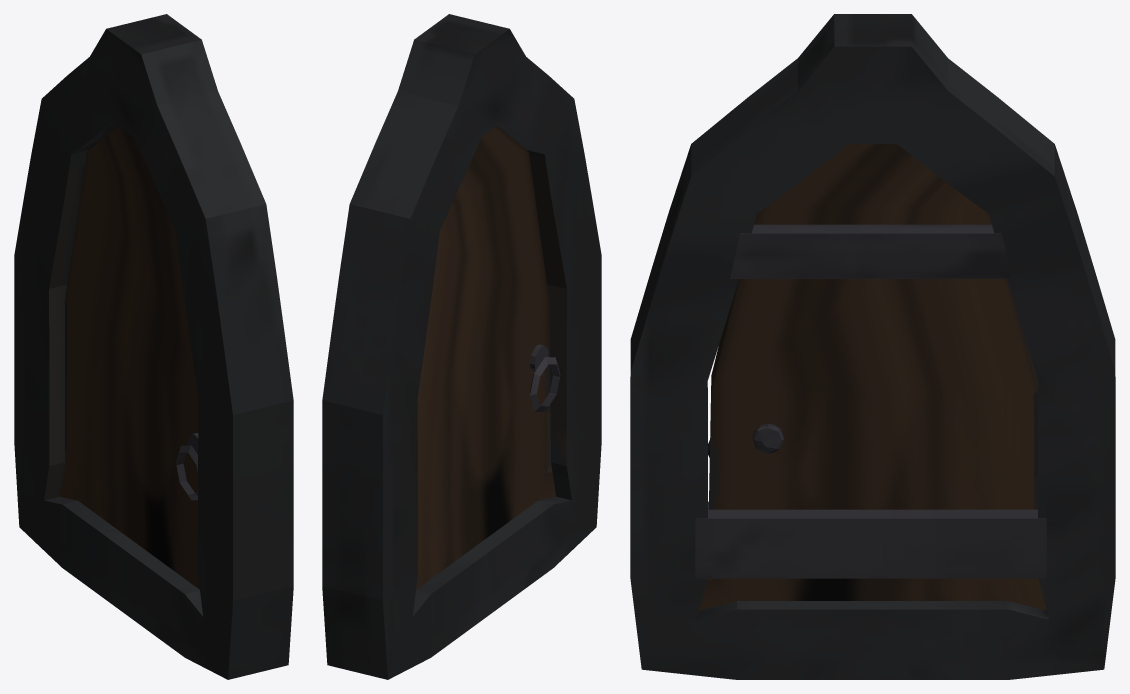
File: wooden with metal.glb
3 renders of one model, left to right at view 1: azimuth 30°, elevation 25°; view 2: azimuth 150°, elevation 25°; view 3: azimuth 270°, elevation 25°, orthographic. The views are drawn at different scales.
Visible parts, largest first — view 1: Doorframe, Door; view 2: Doorframe, Door; view 3: Doorframe, Door.
Part boxes in pixels (x1=…): Doorframe: x1=14, y1=14, x2=293, y2=679; Door: x1=60, y1=126, x2=199, y2=589; Doorframe: x1=322, y1=14, x2=601, y2=679; Door: x1=416, y1=126, x2=560, y2=589; Doorframe: x1=630, y1=14, x2=1115, y2=679; Door: x1=695, y1=144, x2=1046, y2=610.
Size of the model in its own units: 0.1054 by 0.9343 by 0.649.
1 material, 1 textured.
